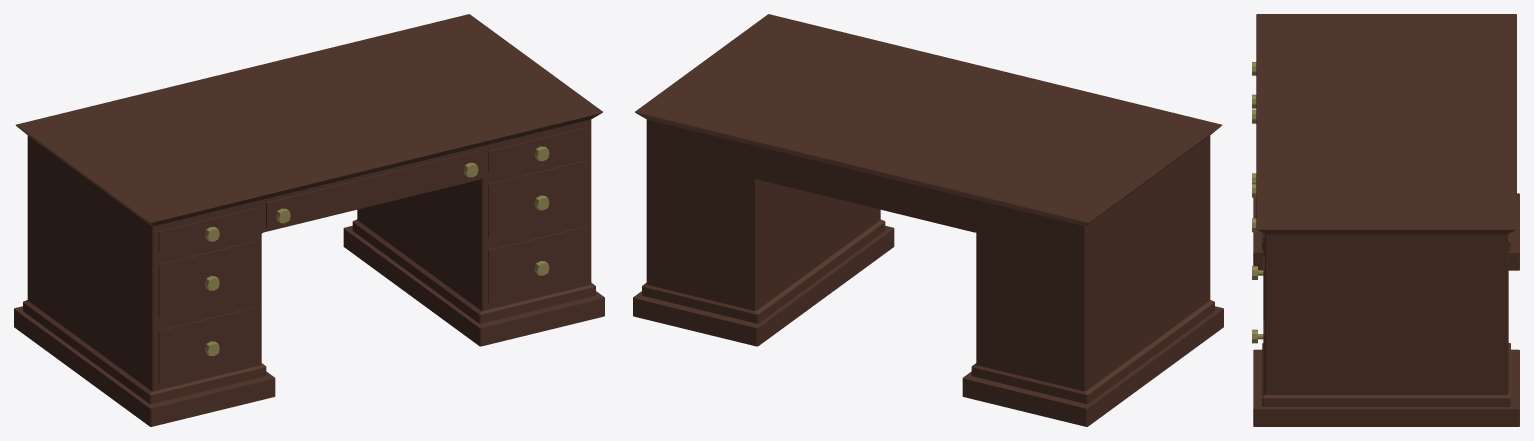
File: Exec_desk.fbx
The picture shows the model from 3 angles, left to right: view 1: azimuth 30°, elevation 25°; view 2: azimuth 150°, elevation 25°; view 3: azimuth 270°, elevation 25°; orthographic projection. The views are drawn at different scales.
Parts seen in each view (by area): view 1: ExecutiveDesk1, Drawer4_ExecutiveDesk1, Drawer7_ExecutiveDesk1, Drawer6_ExecutiveDesk1, Drawer3_ExecutiveDesk1, Drawer2_ExecutiveDesk1, Drawer1_ExecutiveDesk1, Drawer5_ExecutiveDesk1; view 2: ExecutiveDesk1; view 3: ExecutiveDesk1.
Part boxes in pixels (x1=…): ExecutiveDesk1: x1=14, y1=14, x2=604, y2=426; Drawer4_ExecutiveDesk1: x1=266, y1=151, x2=478, y2=228; Drawer7_ExecutiveDesk1: x1=488, y1=226, x2=586, y2=303; Drawer6_ExecutiveDesk1: x1=488, y1=160, x2=586, y2=237; Drawer3_ExecutiveDesk1: x1=158, y1=307, x2=256, y2=384; Drawer2_ExecutiveDesk1: x1=158, y1=241, x2=256, y2=318; Drawer1_ExecutiveDesk1: x1=158, y1=208, x2=256, y2=252; Drawer5_ExecutiveDesk1: x1=488, y1=127, x2=586, y2=171; ExecutiveDesk1: x1=633, y1=14, x2=1223, y2=426; ExecutiveDesk1: x1=1253, y1=14, x2=1519, y2=426.
Bounding box in the file's own units: 205 × 87.44 × 108.
